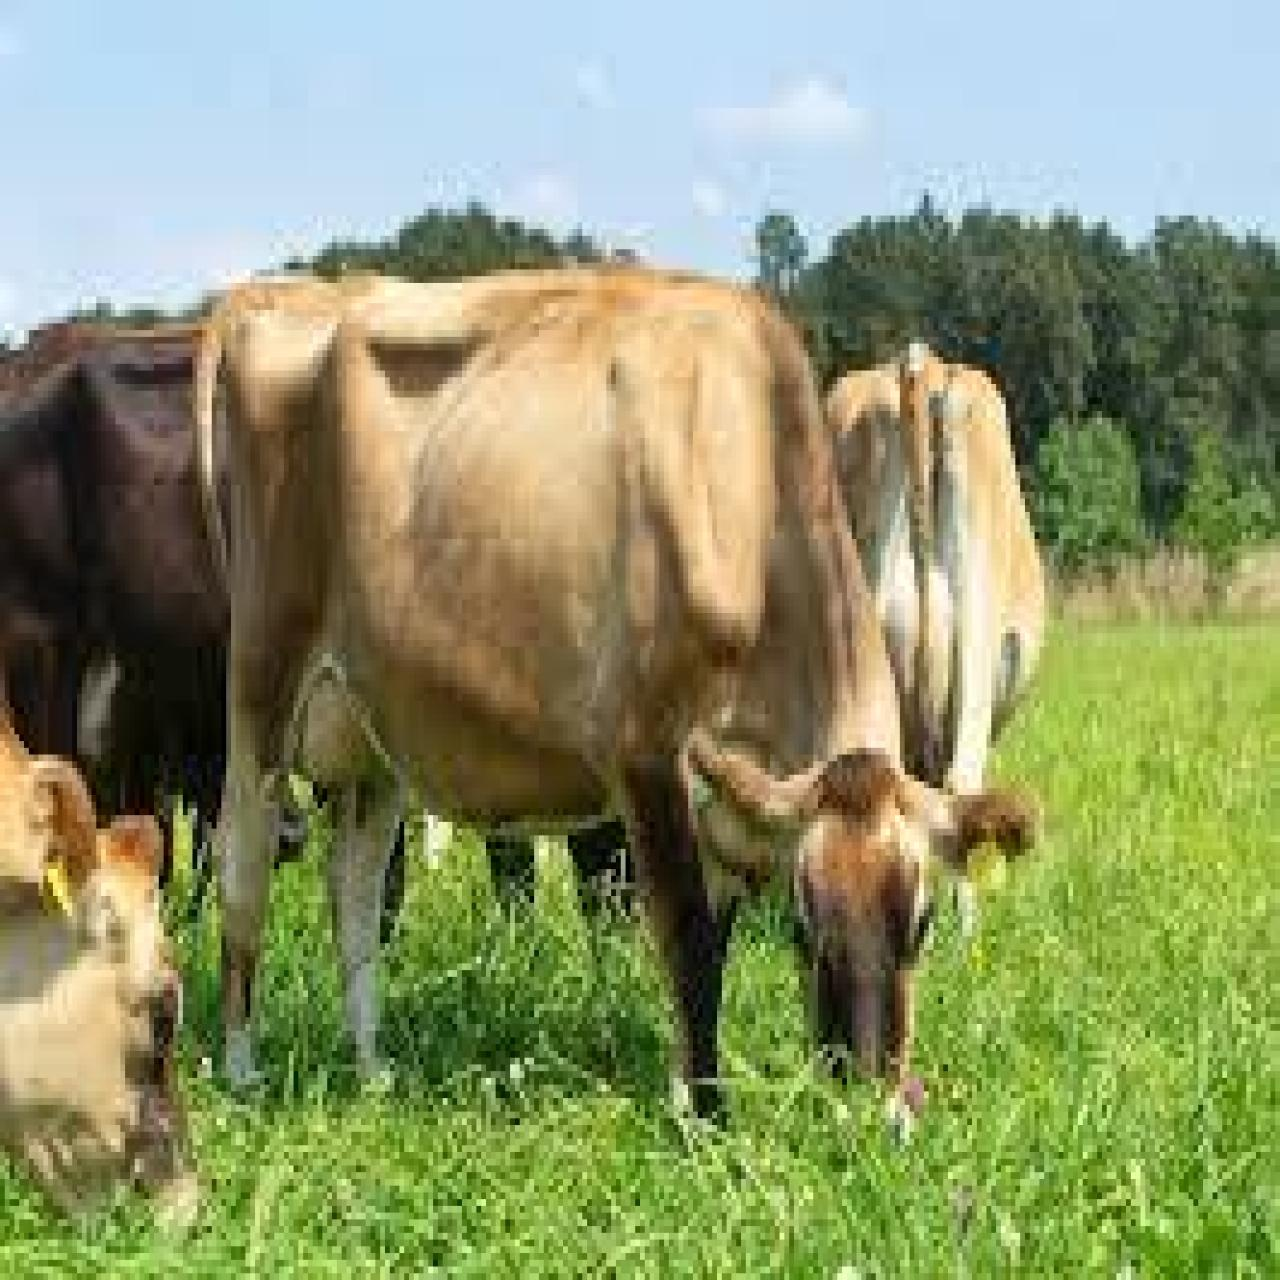cow: (203, 266, 1040, 1162), (2, 279, 315, 899), (821, 333, 1051, 940), (0, 670, 197, 1250)
